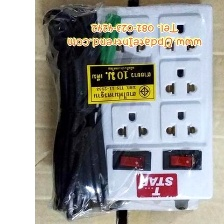three_eye_plug: (80, 0, 217, 213)
